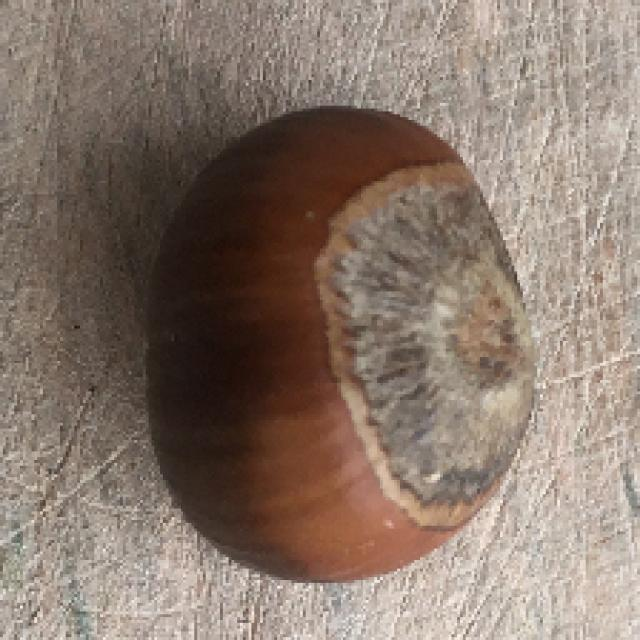DamagedHazelnut: (148, 103, 541, 583)
